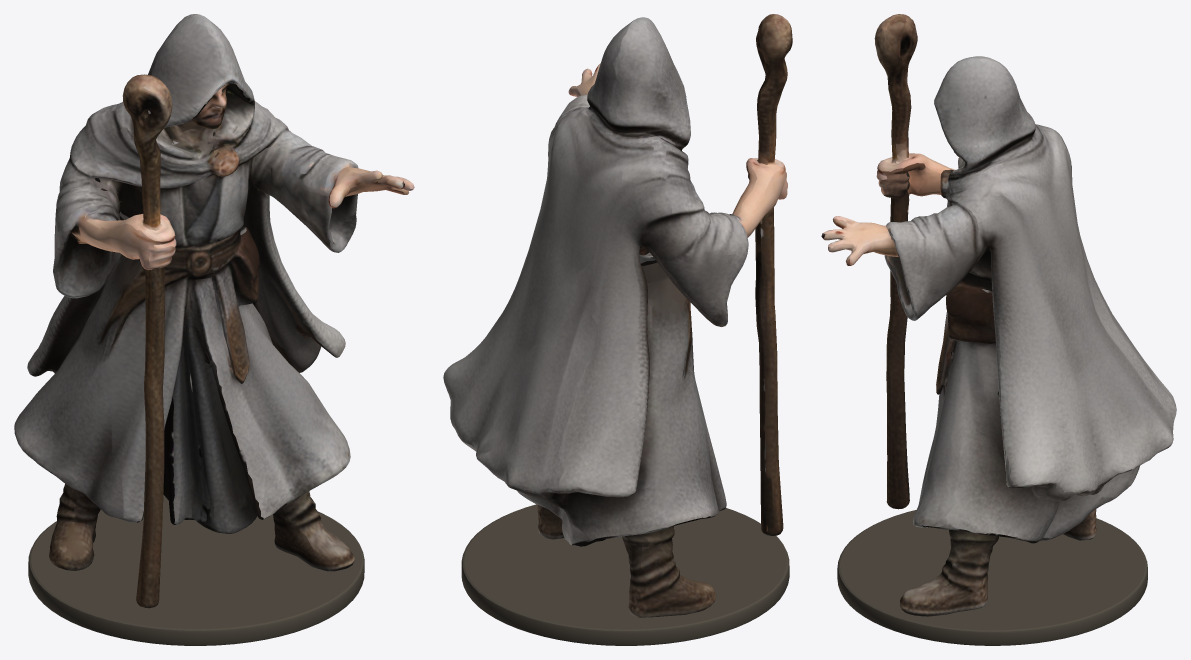
File: human-mage.glb
The picture shows the model from 3 angles, left to right: view 1: azimuth 30°, elevation 25°; view 2: azimuth 150°, elevation 25°; view 3: azimuth 270°, elevation 25°; orthographic projection. The views are drawn at different scales.
Parts seen in each view (by area): view 1: human-mage_body, human-mage_round_base; view 2: human-mage_body, human-mage_round_base; view 3: human-mage_body, human-mage_round_base.
Part boxes in pixels (x1,y1,x2,y2): human-mage_body: [14, 14, 414, 608]; human-mage_round_base: [28, 495, 364, 645]; human-mage_body: [443, 14, 792, 617]; human-mage_round_base: [461, 504, 789, 645]; human-mage_body: [821, 14, 1176, 616]; human-mage_round_base: [837, 510, 1147, 645].
Bounding box in the file's own units: 1.07 × 1.86 × 1.14.
2 materials, 1 textured.
